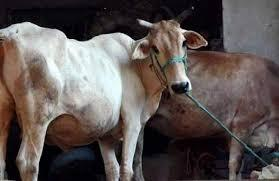cow: (0, 6, 208, 181), (136, 49, 279, 181)
